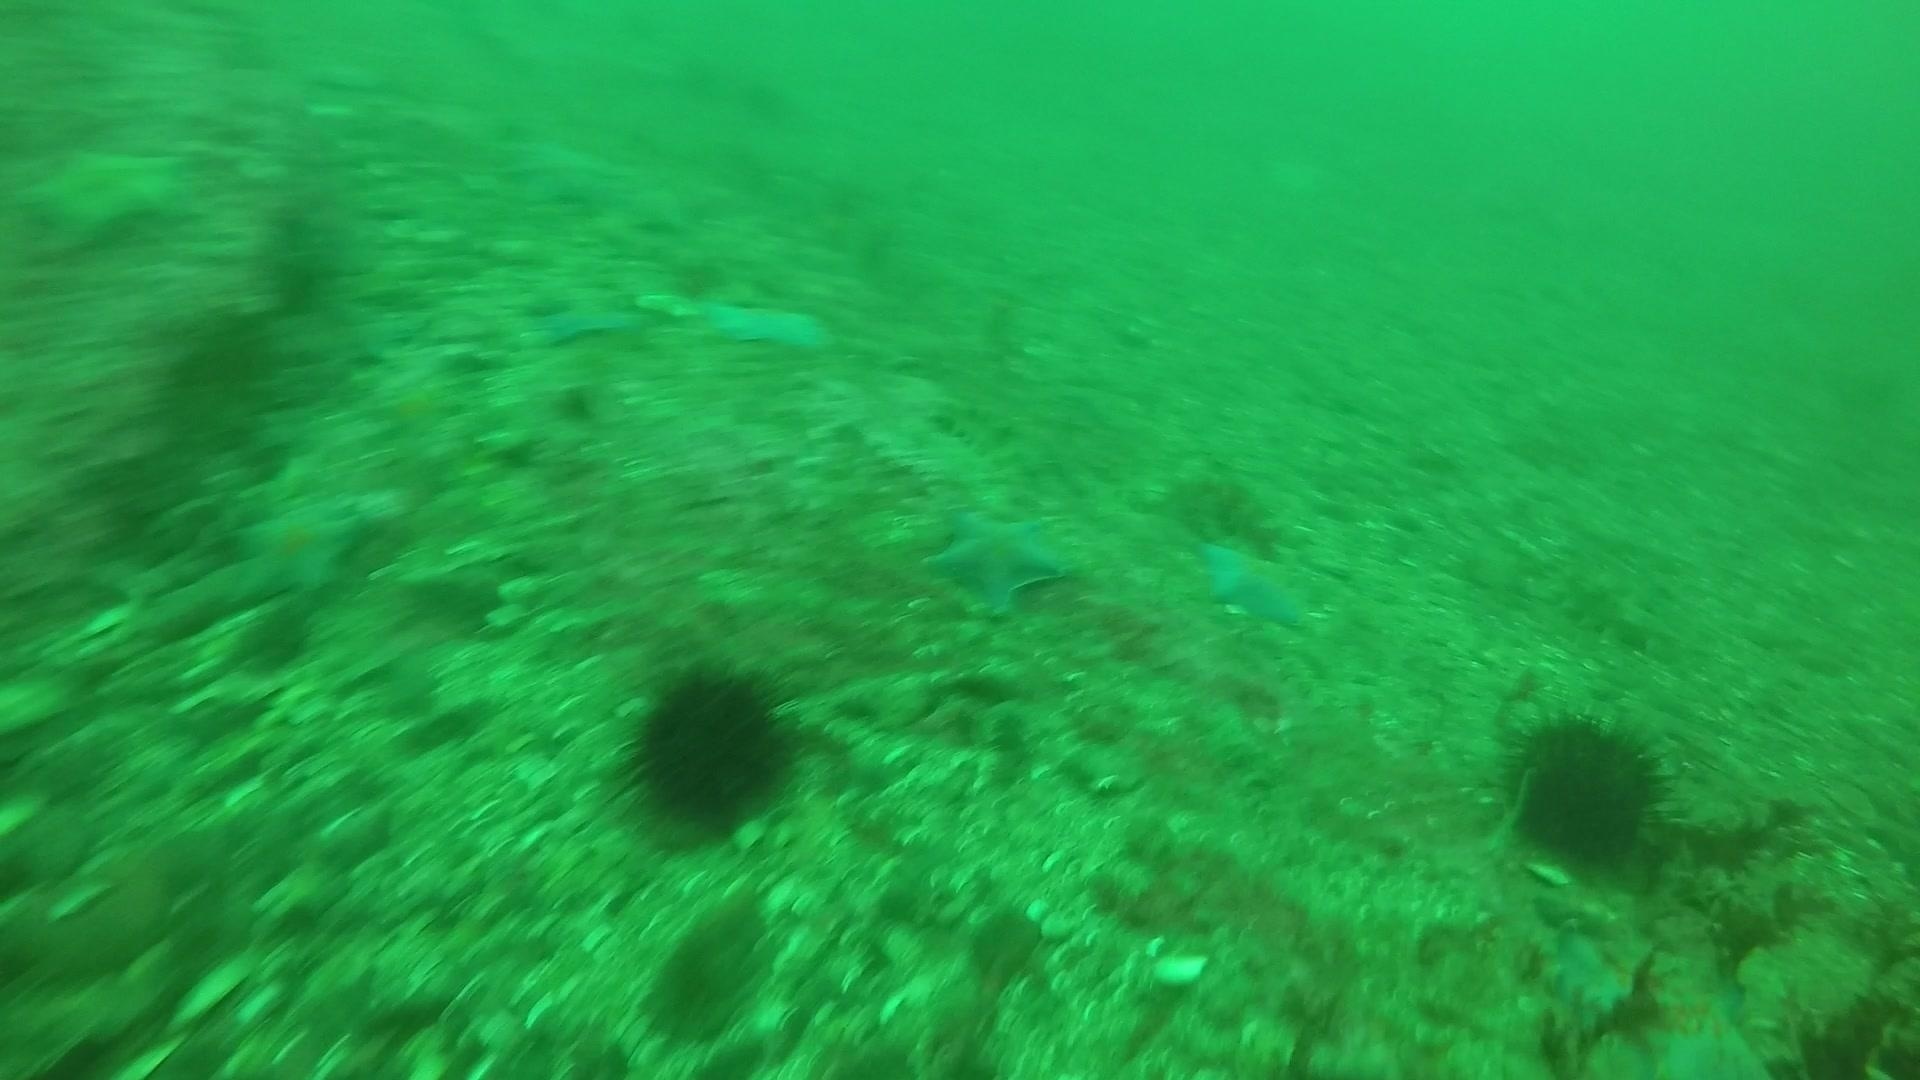echinus: (615, 655, 803, 836), (1494, 703, 1676, 877)
starfish: (1614, 944, 1778, 1077), (15, 135, 195, 249), (920, 498, 1073, 620), (224, 483, 376, 603), (1192, 531, 1323, 634), (694, 291, 833, 357), (524, 284, 655, 349), (367, 365, 469, 440)
